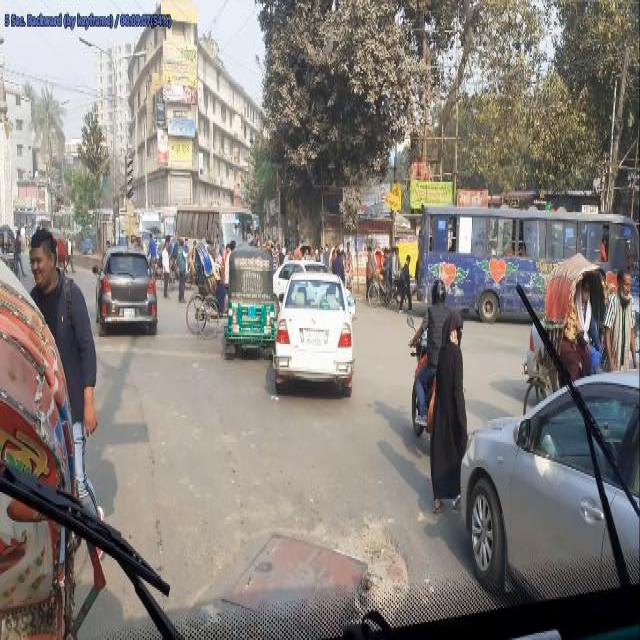BUS: (421, 212, 640, 334)
